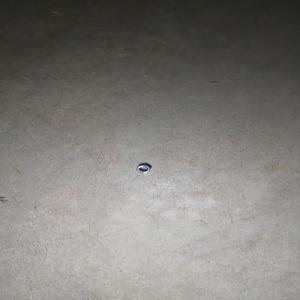Nut: (135, 164, 151, 174)
